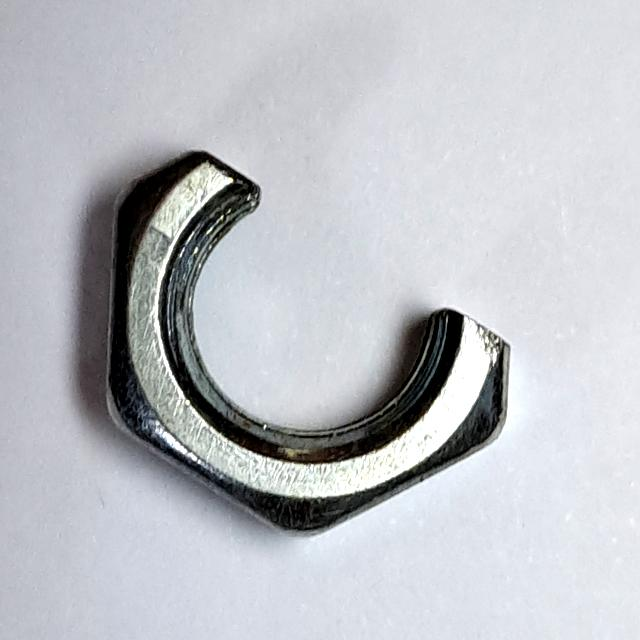Fracture: (88, 132, 532, 551)
